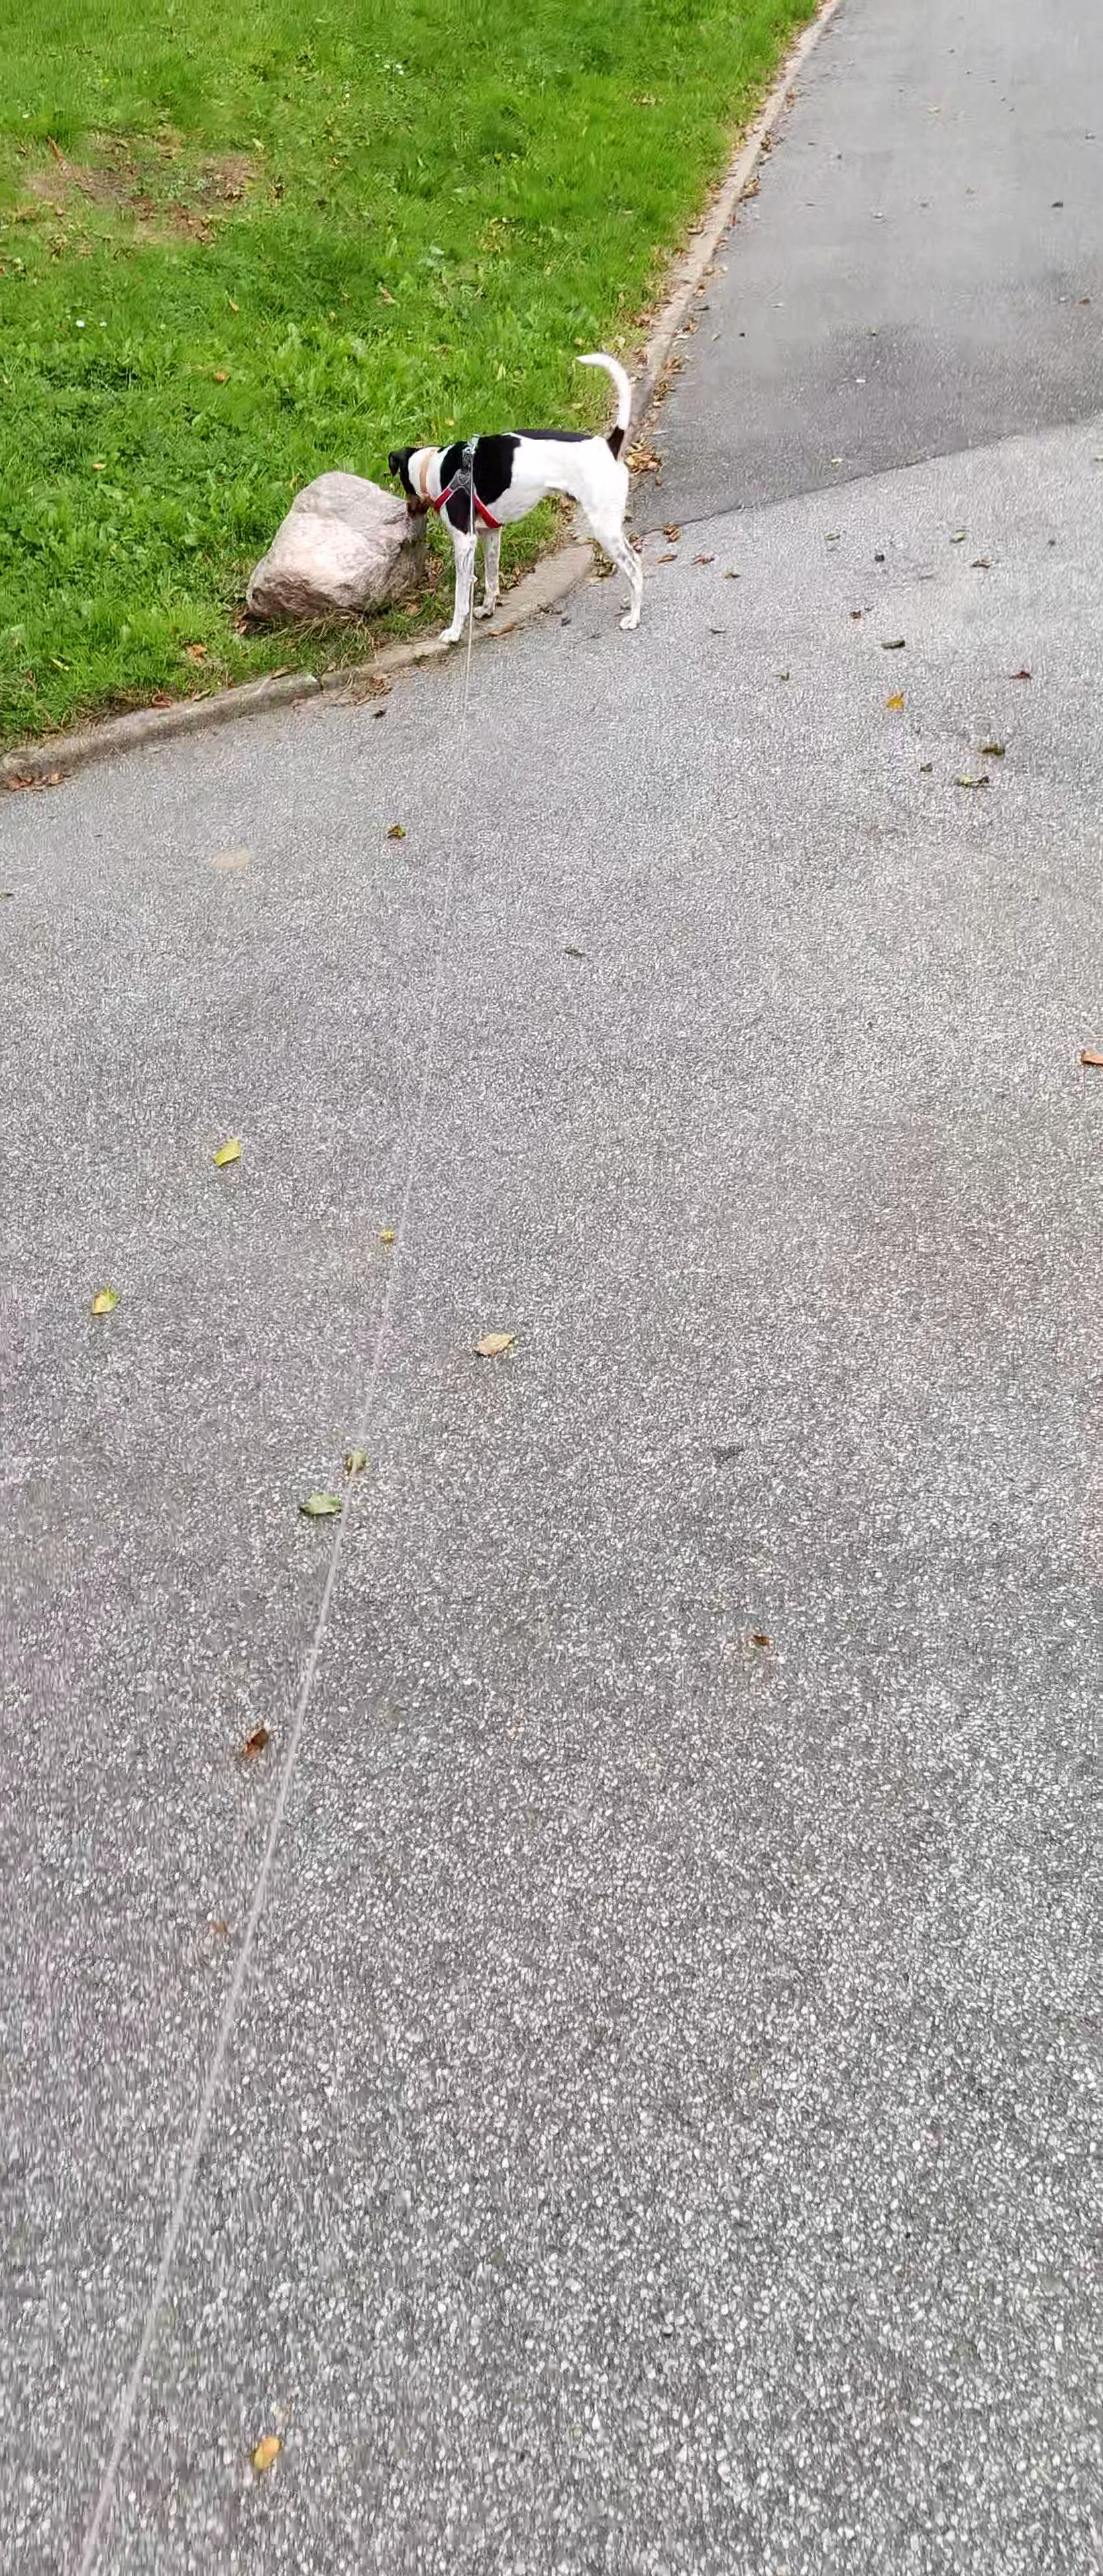Dog: (383, 350, 649, 644)
